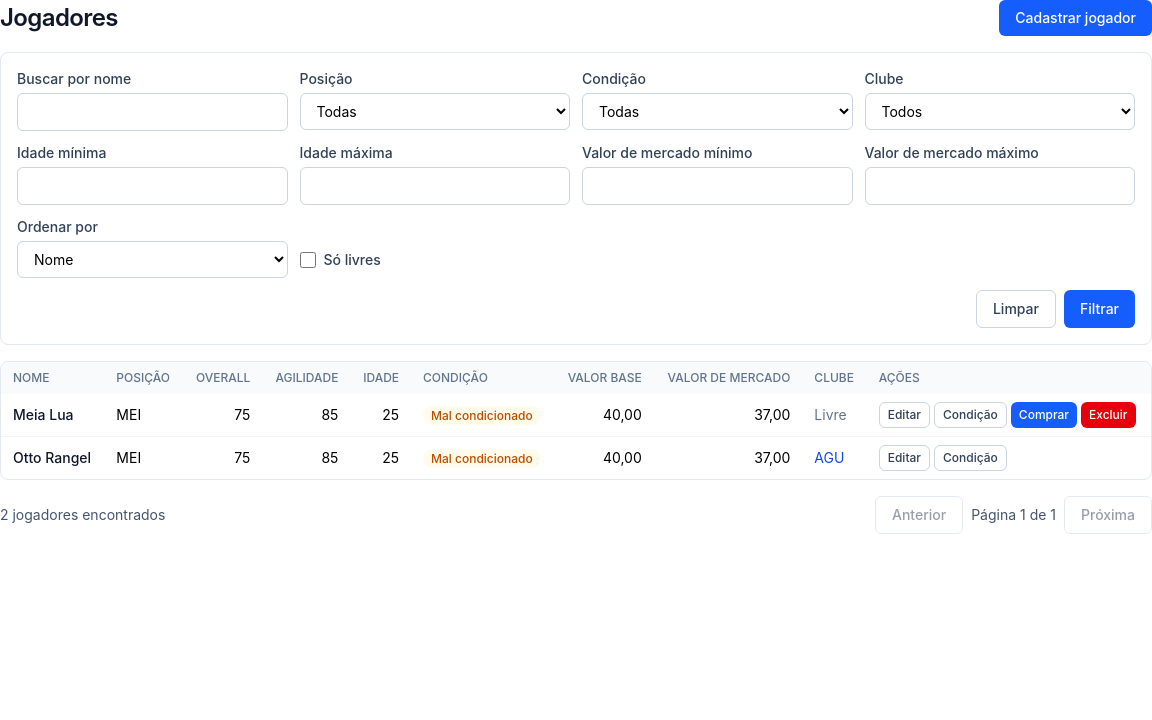
it: PlayersPage › exclui o jogador livre depois da confirmação e atualiza a lista
This screenshot has width=1152, height=720.
Step 1. Click the button "Excluir" → (1108, 415), box [1081, 402, 1136, 428]
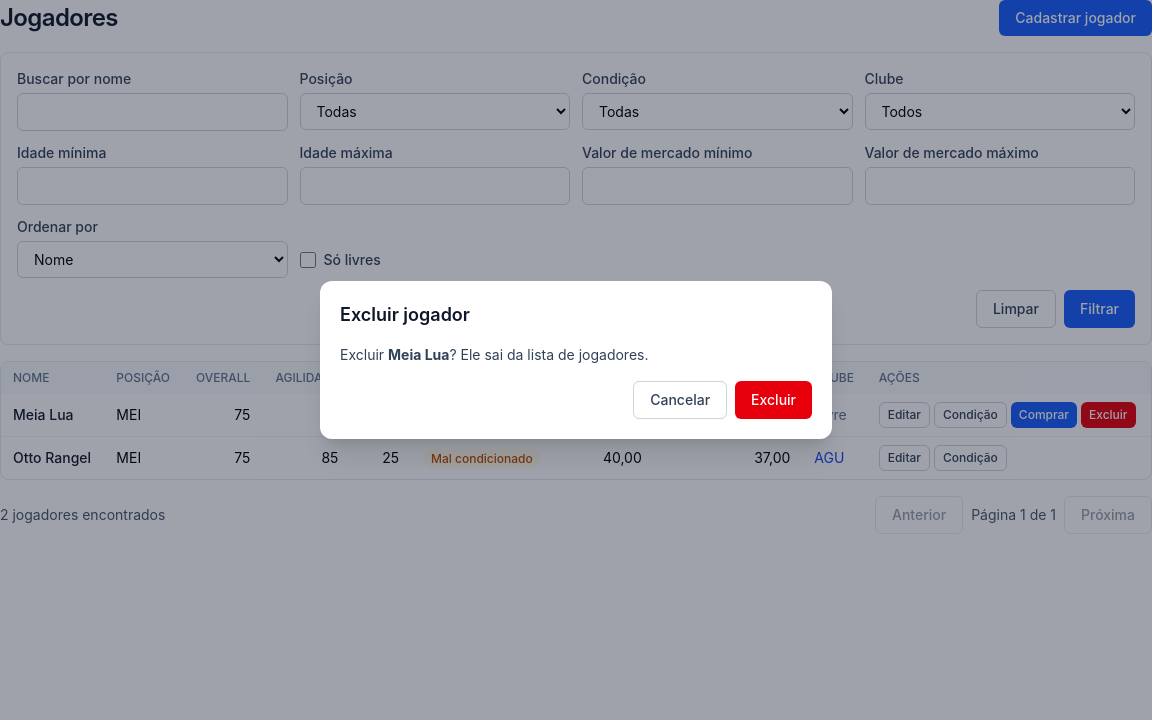
Step 2. Click the button "Excluir" → (774, 400), box [735, 381, 812, 419]
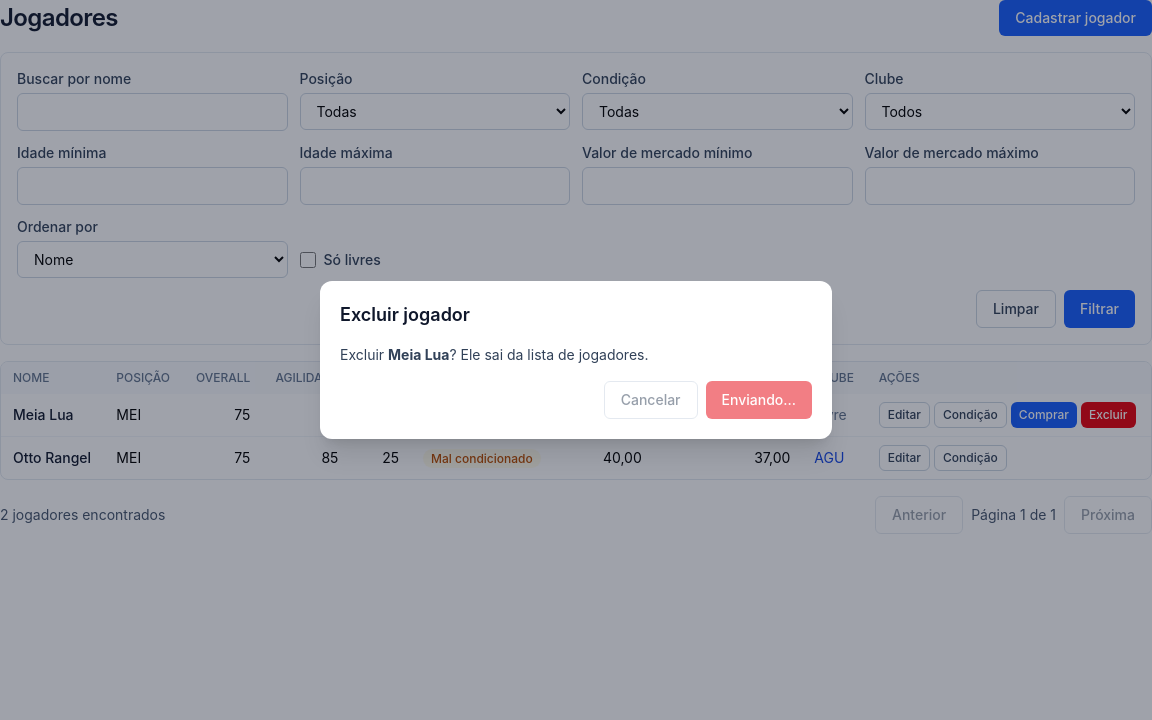
Step 3. Click the button named "Excluir" → (759, 400), box [706, 381, 812, 419]
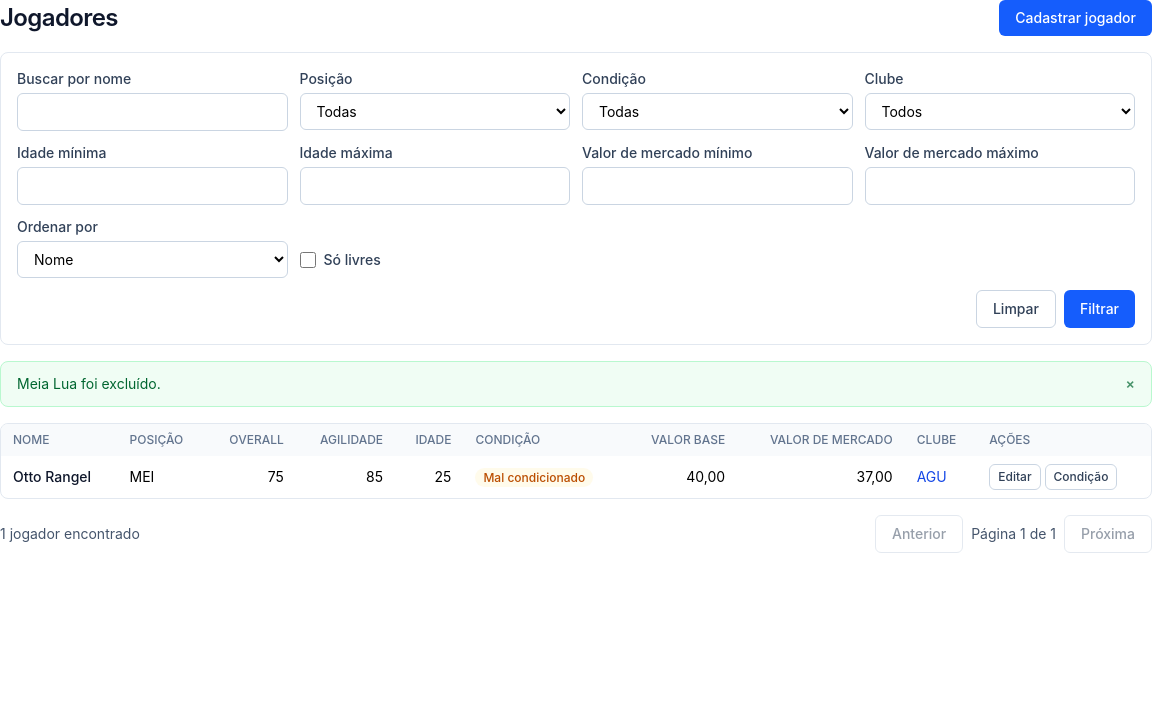
Expected: the message shows "Meia Lua foi excluído.", [17, 375, 161, 392]
Expected: the dialog is gone
